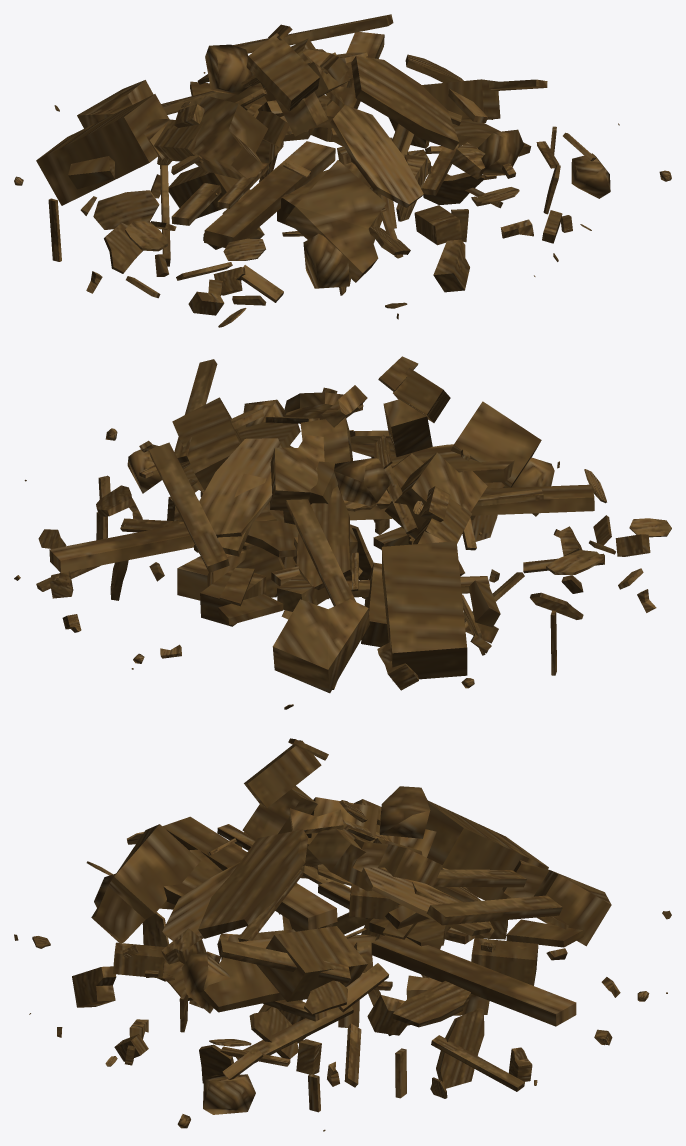
The model's file is SM_DebrisPile3.fbx.
3 renders of one model, top to bottom at view 1: azimuth 30°, elevation 25°; view 2: azimuth 150°, elevation 25°; view 3: azimuth 270°, elevation 25°, orthographic. The views are drawn at different scales.
Parts seen in each view (by area): view 1: SM_DebrisPile3; view 2: SM_DebrisPile3; view 3: SM_DebrisPile3.
Part boxes in pixels (x1,y1,x2,y2): SM_DebrisPile3: (14, 14, 671, 327); SM_DebrisPile3: (14, 356, 671, 709); SM_DebrisPile3: (14, 738, 671, 1131).
Bounding box in the file's own units: 277 × 115 × 256.
